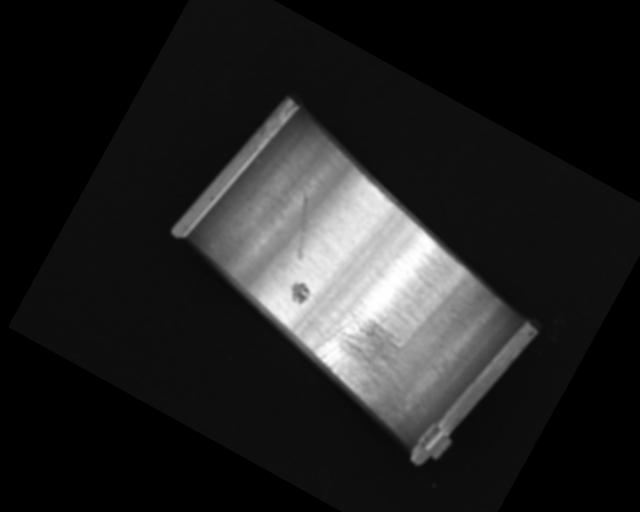bruise: (285, 278, 313, 306)
nick: (325, 194, 396, 302), (273, 190, 331, 261)
scratch: (296, 292, 433, 425)
